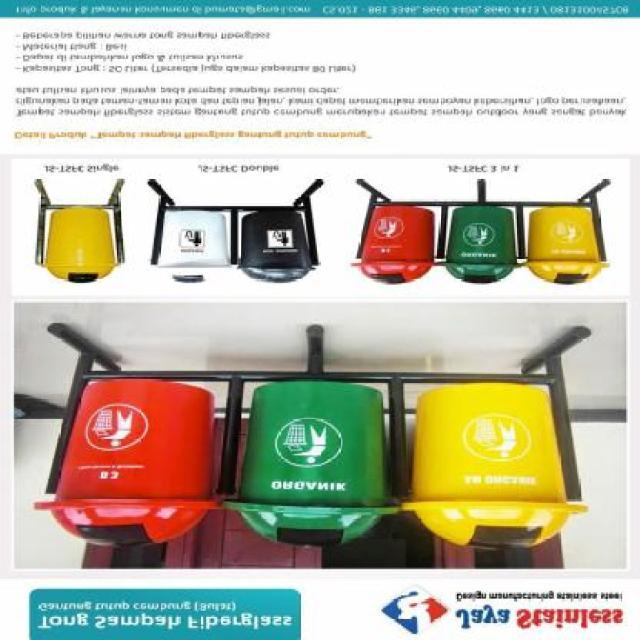garbage container: (389, 366, 590, 562), (216, 362, 404, 558), (36, 370, 225, 553), (35, 197, 132, 291), (239, 205, 327, 288)
